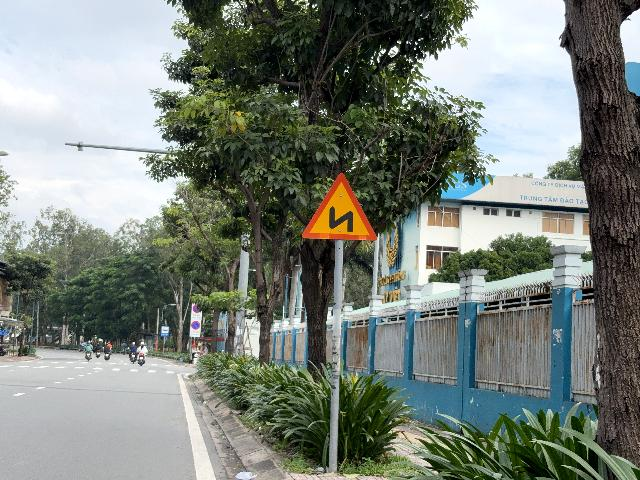nhieu-cho-ngoat-nguy-hiem-lien-tiep: (302, 173, 377, 241)
